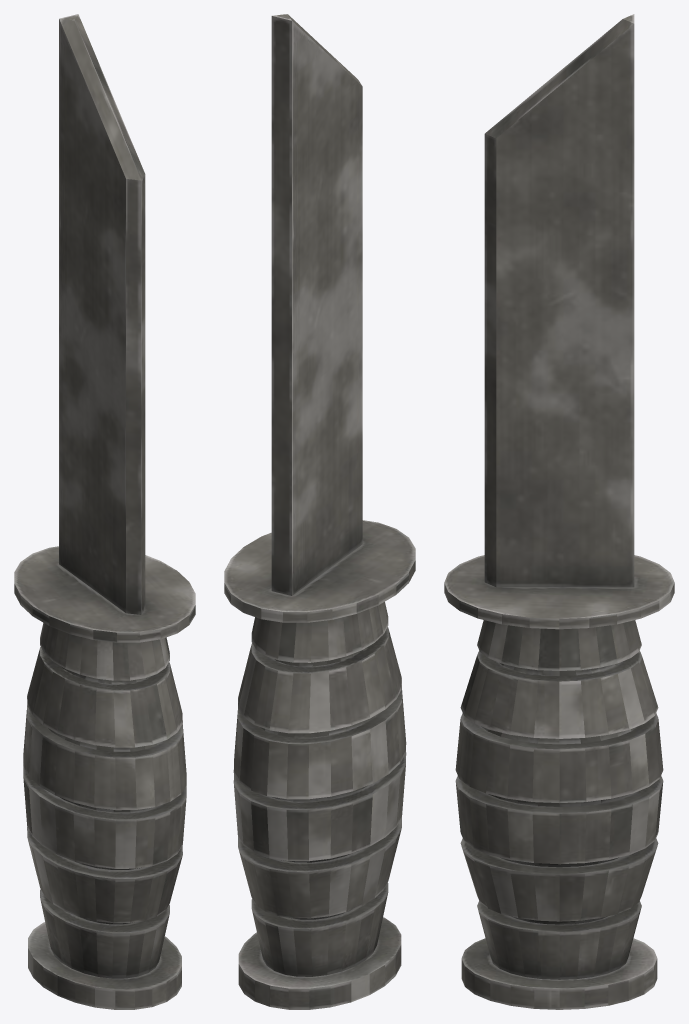
The model's file is knife_sharp.glb.
The picture shows the model from 3 angles, left to right: view 1: azimuth 30°, elevation 25°; view 2: azimuth 150°, elevation 25°; view 3: azimuth 270°, elevation 25°; orthographic projection. The views are drawn at different scales.
Visible parts, largest first — view 1: knife_sharp; view 2: knife_sharp; view 3: knife_sharp.
Boxes of the visible parts, x1=… form: knife_sharp: x1=14, y1=14, x2=195, y2=1009; knife_sharp: x1=224, y1=14, x2=415, y2=1009; knife_sharp: x1=444, y1=14, x2=674, y2=1009.
Bounding box in the file's own units: 0.0574 × 0.3522 × 0.0766.
1 material, 1 textured.
